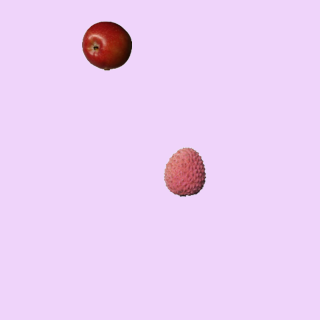Apple Braeburn: (81, 20, 131, 70)
Lychee: (159, 146, 209, 196)
